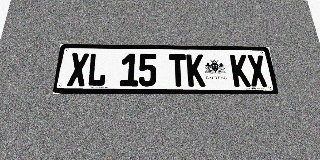1: (120, 53, 139, 86)
5: (139, 54, 157, 87)
K: (230, 55, 251, 87), (186, 54, 206, 87)
L: (86, 53, 107, 86)
T: (169, 54, 187, 87)
X: (67, 53, 89, 86), (247, 55, 268, 87)
